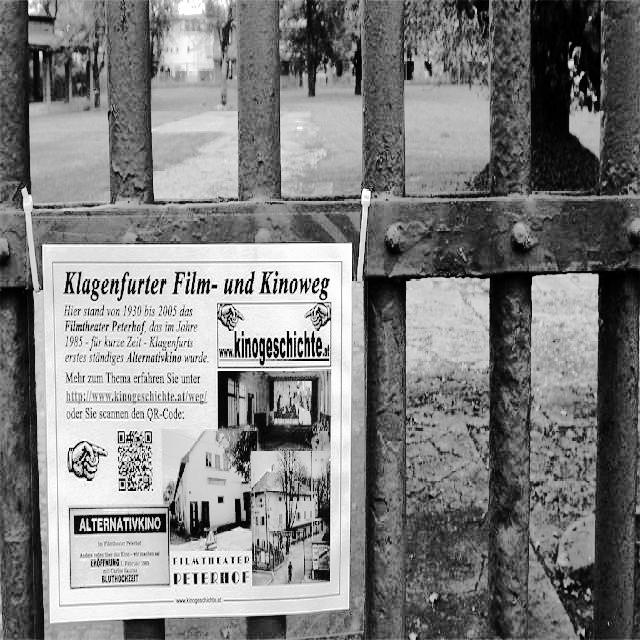qr_code: (118, 430, 153, 490)
